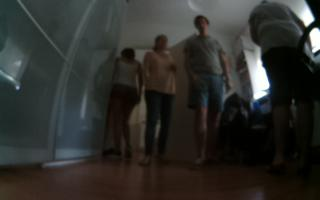person: (245, 1, 320, 179), (184, 12, 238, 168), (142, 28, 182, 168), (107, 37, 145, 165)
